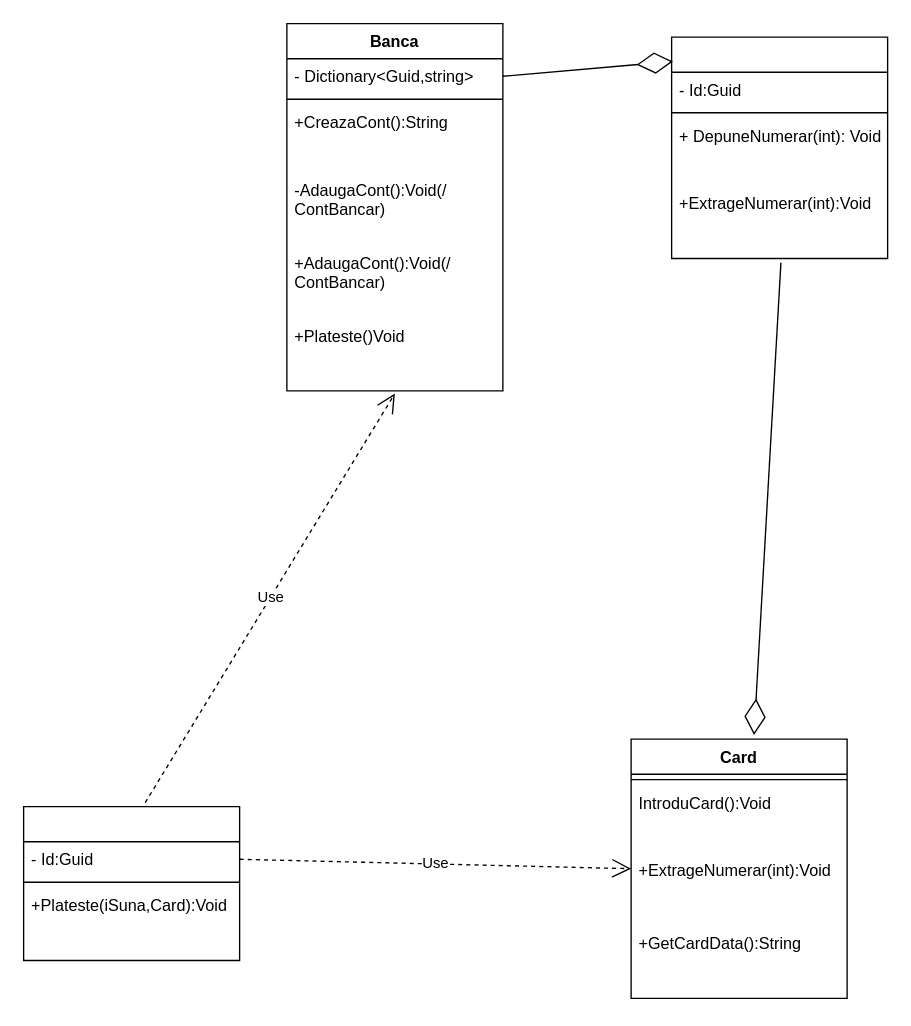
The diagram is 911 pixels wide and 1026 high, and some of its shapes have lost their labels. Each missing label, with the box of its shape:
ContBancar: (670, 36, 888, 259)
PoS: (22, 805, 240, 961)
